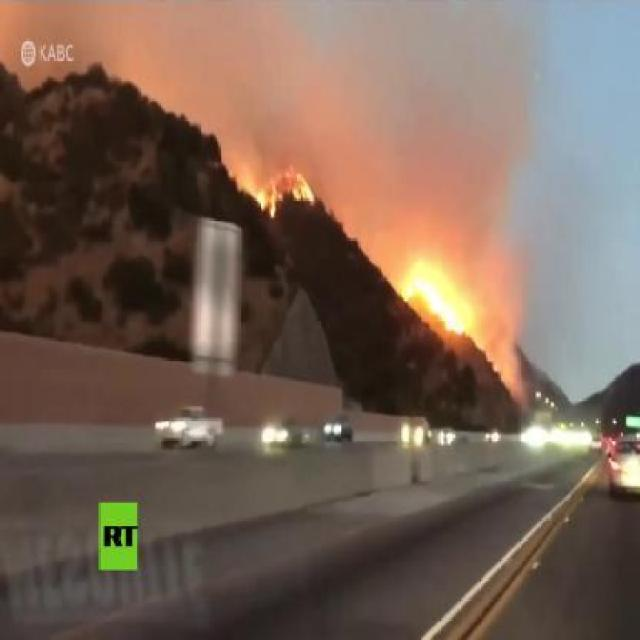Fire: (397, 248, 479, 338), (253, 179, 284, 218), (290, 168, 316, 202)
